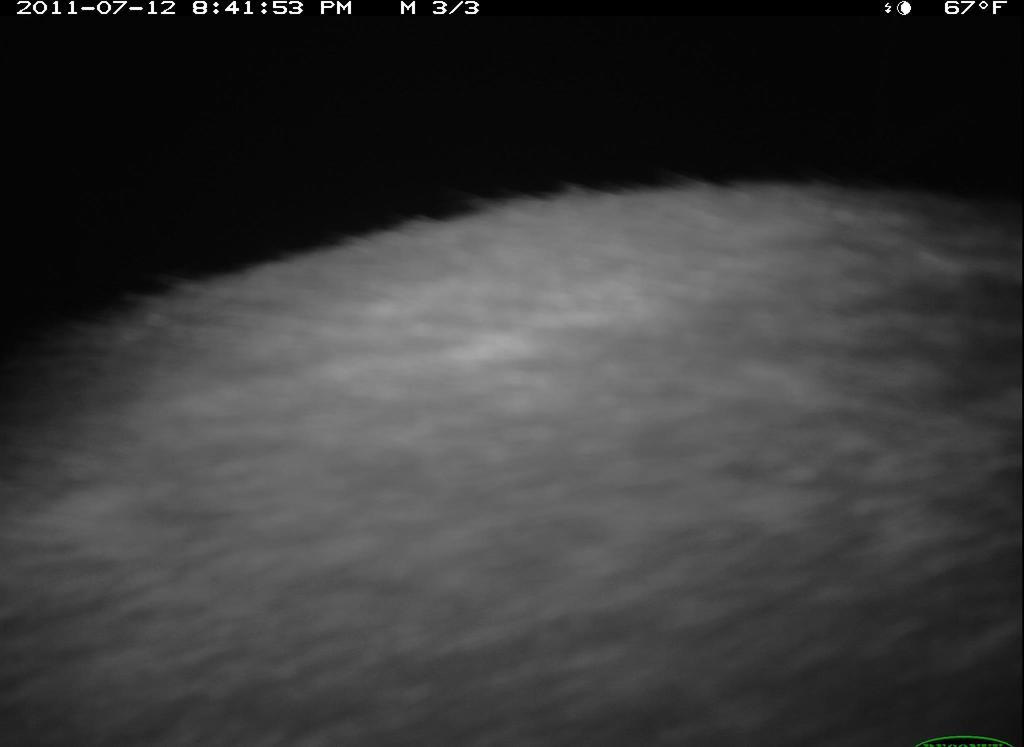raccoon: (3, 173, 1023, 747)
